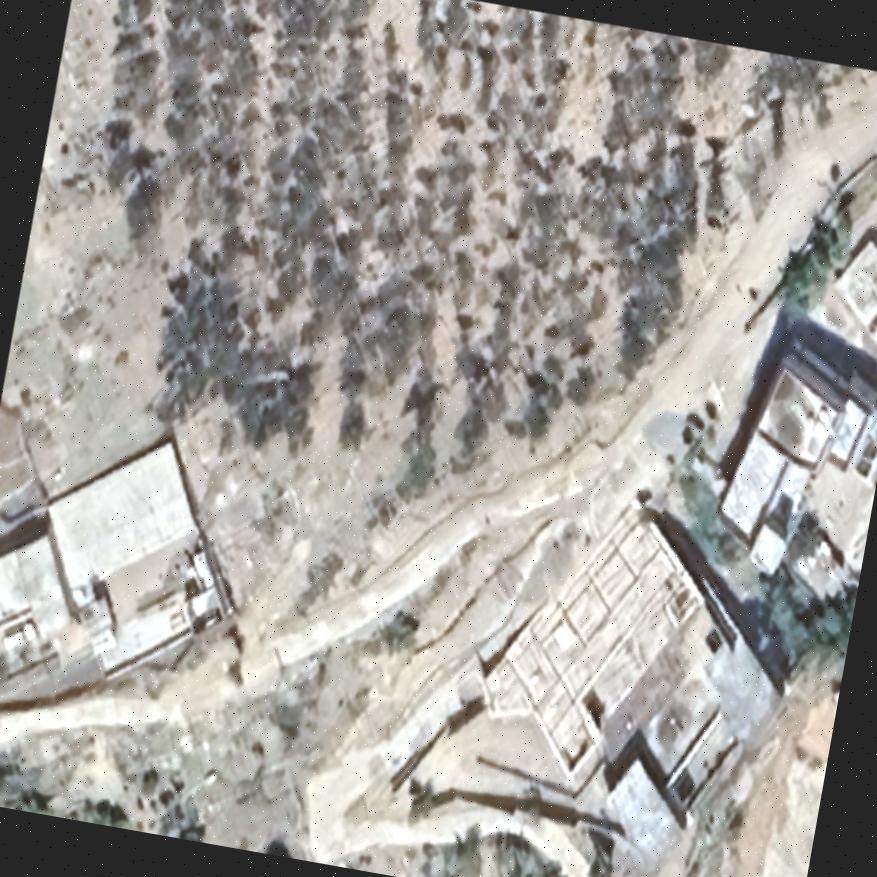Solarpanel: (848, 410, 877, 485)
